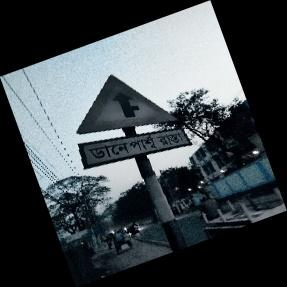Side-road-right: (76, 75, 189, 171)
